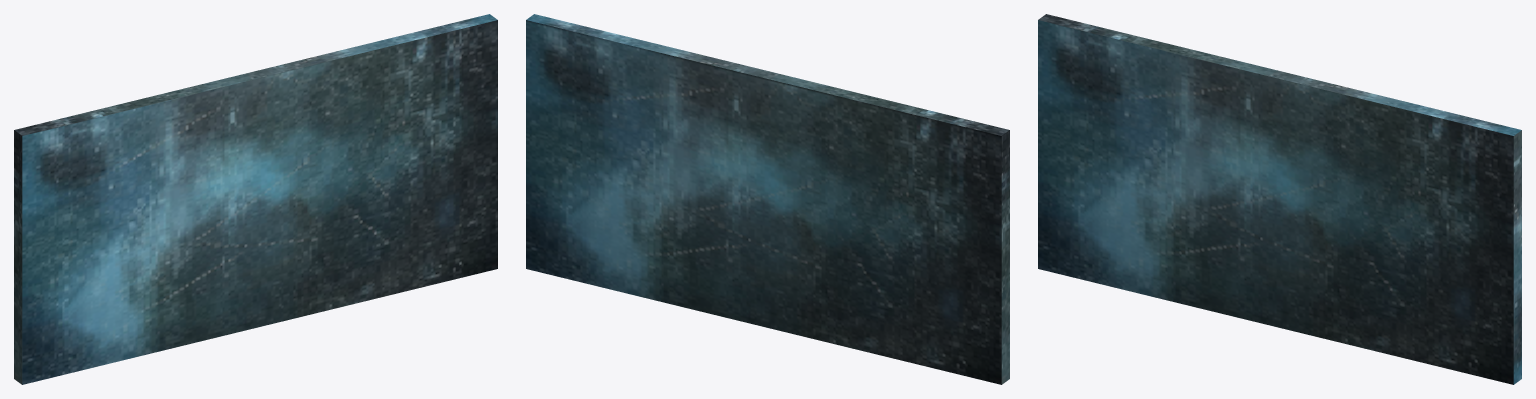
File: Glass.fbx
The picture shows the model from 3 angles, left to right: view 1: azimuth 30°, elevation 25°; view 2: azimuth 150°, elevation 25°; view 3: azimuth 330°, elevation 25°; orthographic projection.
Parts seen in each view (by area): view 1: Cube; view 2: Cube; view 3: Cube.
Boxes of the visible parts, x1,y1,x2,y2 form: Cube: (14, 14, 497, 384); Cube: (526, 14, 1009, 384); Cube: (1038, 14, 1521, 384).
Bounding box in the file's own units: 200 × 100 × 6.
